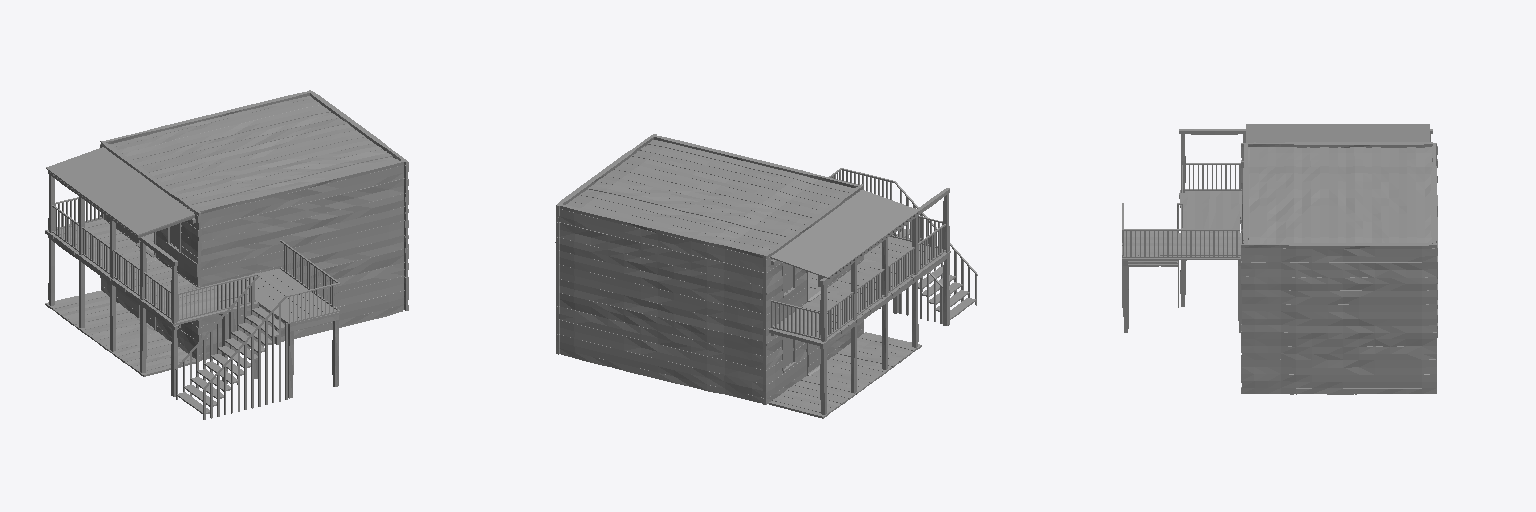
The model's file is Hotel.obj.
3 views of the same model, side by side, from view 1: azimuth 30°, elevation 25°; view 2: azimuth 150°, elevation 25°; view 3: azimuth 270°, elevation 25° (orthographic).
Parts seen in each view (by area): view 1: WildWest_Hotel, WildWest_Hotel_Floor, WildWest_Hotel_Railing, WildWest_Hotel_Porch; view 2: WildWest_Hotel, WildWest_Hotel_Floor, WildWest_Hotel_Porch, WildWest_Hotel_Railing; view 3: WildWest_Hotel, WildWest_Hotel_Floor, WildWest_Hotel_Porch, WildWest_Hotel_Railing.
Boxes of the visible parts, x1,y1,x2,y2 form: WildWest_Hotel: [100, 90, 408, 361]; WildWest_Hotel_Floor: [110, 96, 402, 360]; WildWest_Hotel_Railing: [48, 171, 340, 419]; WildWest_Hotel_Porch: [45, 147, 339, 376]; WildWest_Hotel: [555, 134, 863, 404]; WildWest_Hotel_Floor: [567, 140, 854, 393]; WildWest_Hotel_Porch: [769, 190, 950, 418]; WildWest_Hotel_Railing: [771, 168, 977, 414]; WildWest_Hotel: [1241, 142, 1437, 394]; WildWest_Hotel_Floor: [1248, 147, 1431, 394]; WildWest_Hotel_Porch: [1122, 124, 1429, 260]; WildWest_Hotel_Railing: [1122, 129, 1432, 332].
Bounding box in the file's own units: 11.7 × 6.28 × 11.86.